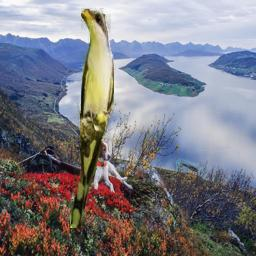Cuckoo: (70, 8, 114, 228)
